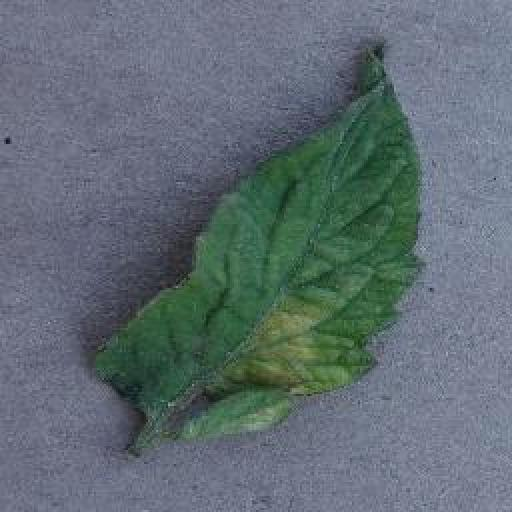disease_tomato: (90, 46, 426, 442)
